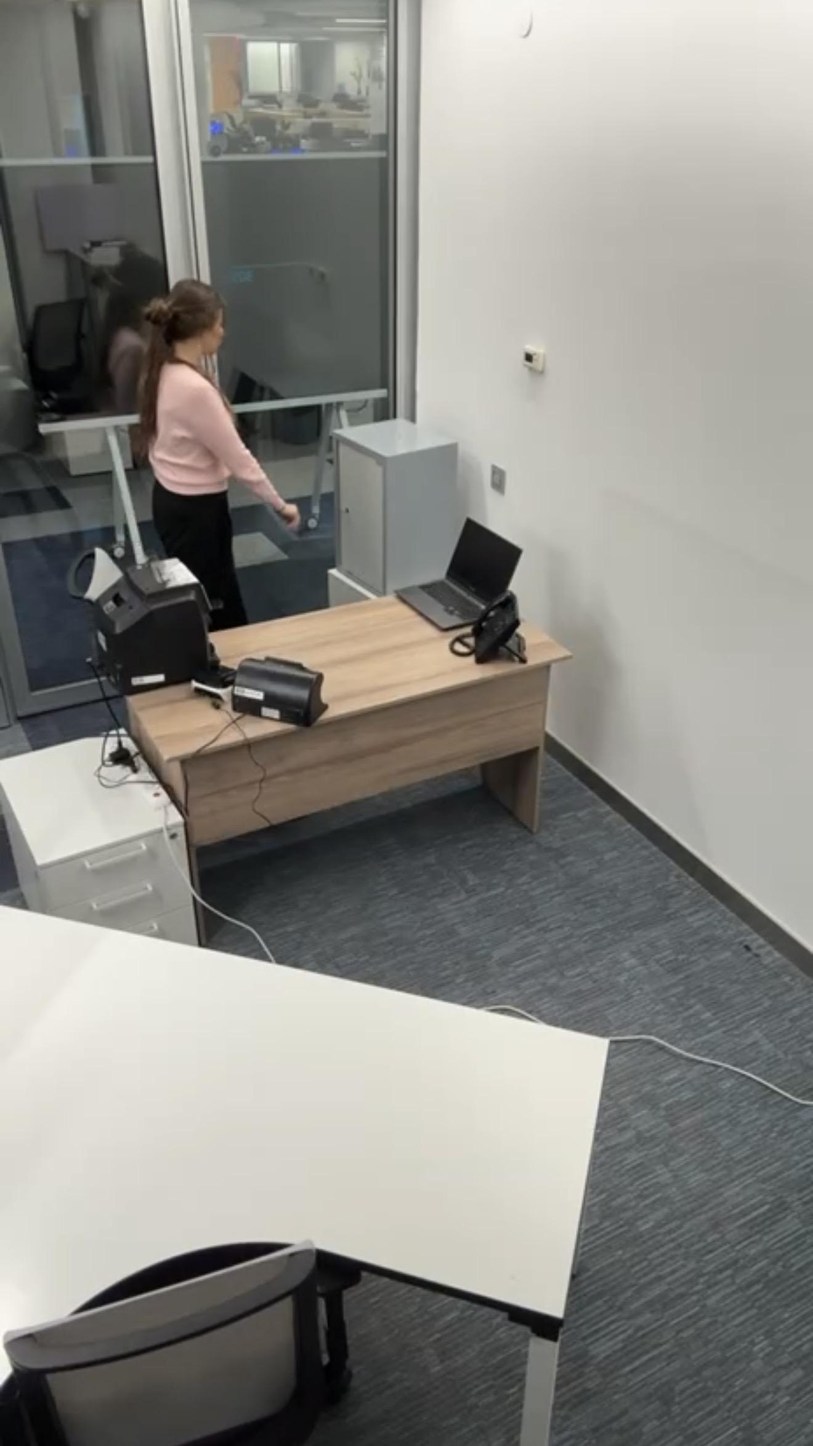counter: (96, 554, 218, 678)
key_in: (324, 495, 370, 534)
uv_lamp: (226, 653, 335, 725)
